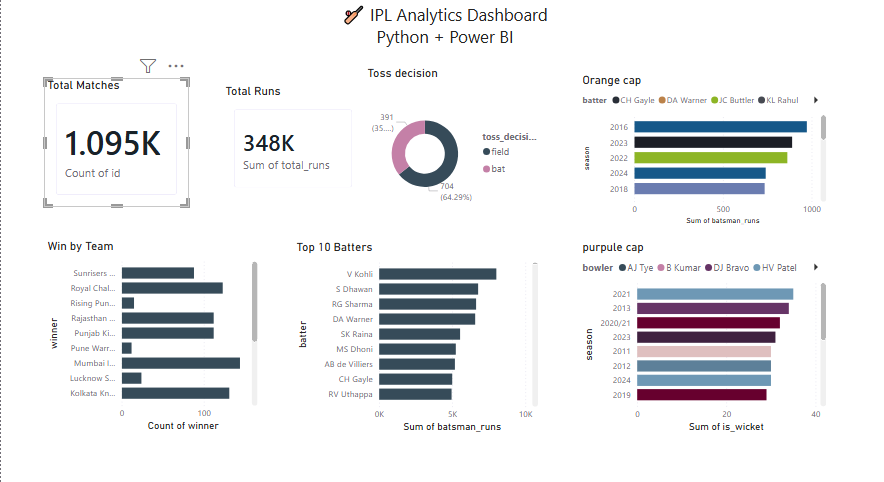

What the dashboard file says about the page in this screenshot:
{"tool":"powerbi","page":{"name":"Page 1","canvas":[1280,720],"ordinal":0},"visuals":[{"type":"cardVisual","title":"Total Matches","fields":{"Data":["CountNonNull(matches.id)"]},"box":[61.9,112.3,207.4,184.3],"z":0},{"type":"cardVisual","title":"Total Runs","fields":{"Data":["Sum(deliveries.total_runs)"]},"box":[315.4,121,203,165.6],"z":1000},{"type":"clusteredBarChart","title":"Win by Team","fields":{"Category":["matches.winner"],"Y":["CountNonNull(matches.winner)"]},"box":[61.7,343.3,310,280],"z":2000},{"type":"donutChart","title":"Toss decision","fields":{"Category":["matches.toss_decision"],"Y":["CountNonNull(matches.toss_decision)"]},"box":[518.3,95,260,231.7],"z":3000},{"type":"clusteredBarChart","title":"Top 10 Batters","fields":{"Category":["deliveries.batter"],"Y":["Sum(deliveries.batsman_runs)"]},"box":[416.7,345,355,280],"z":4000},{"type":"textbox","box":[417.1,0,434.3,77.1],"z":5000},{"type":"barChart","title":"Orange cap","fields":{"Category":["matches.season"],"Series":["deliveries.batter"],"Y":["Sum(deliveries.batsman_runs)"]},"box":[825,105,358.3,221.7],"z":6000},{"type":"barChart","title":"purpule cap","fields":{"Category":["matches.season"],"Series":["deliveries.bowler"],"Y":["Sum(deliveries.is_wicket)"]},"box":[825,345,358,280],"z":6001}]}

Visuals, with their boxes on the page's 1280x720 design canvas (x1, y1, x2, y2). These are canvas units, not pixel positions in the 884x482 screenshot, which may show the page scaled, cropped or inside an application window:
"Total Matches" cardVisual: <box>62,112,269,297</box>
"Total Runs" cardVisual: <box>315,121,518,287</box>
"Win by Team" clusteredBarChart: <box>62,343,372,623</box>
"Toss decision" donutChart: <box>518,95,778,327</box>
"Top 10 Batters" clusteredBarChart: <box>417,345,772,625</box>
textbox: <box>417,0,851,77</box>
"Orange cap" barChart: <box>825,105,1183,327</box>
"purpule cap" barChart: <box>825,345,1183,625</box>
